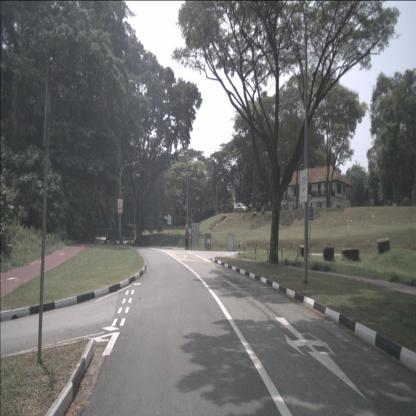human-pedestrian-adult: (184, 229, 189, 251), (186, 228, 190, 250)
vehicle-car: (234, 203, 249, 213)
